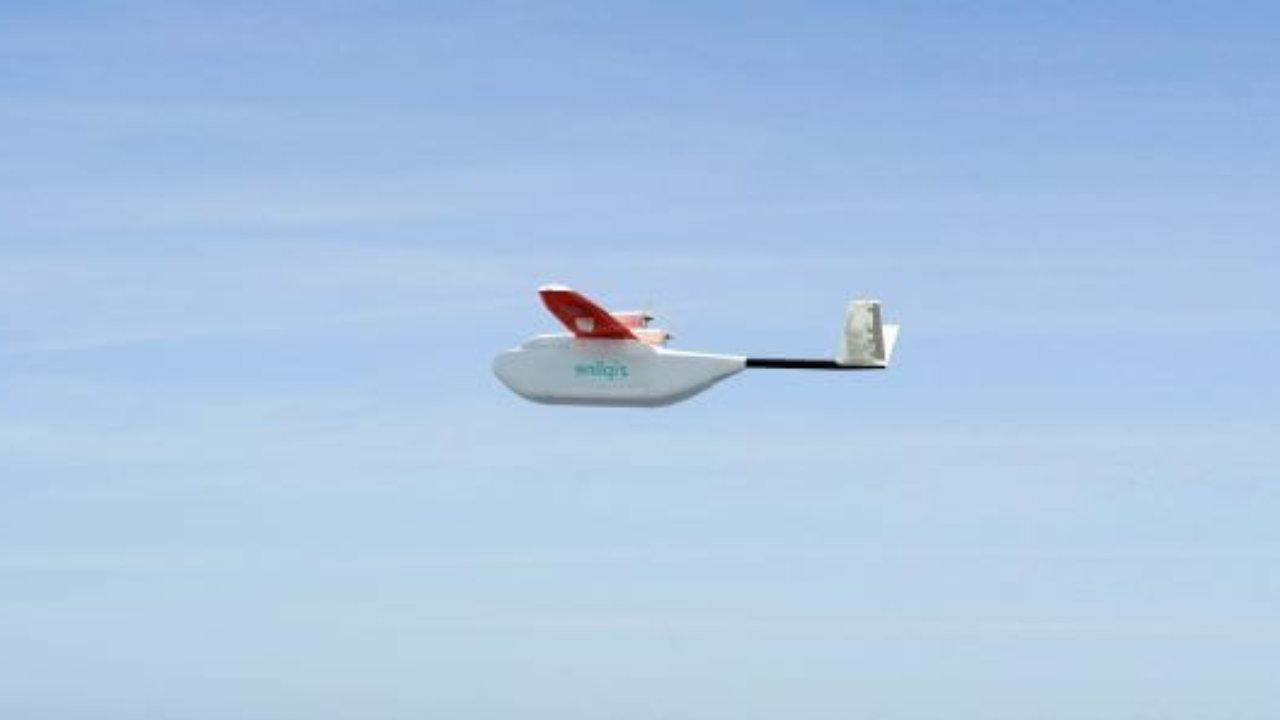Airplane: (481, 279, 905, 427)
